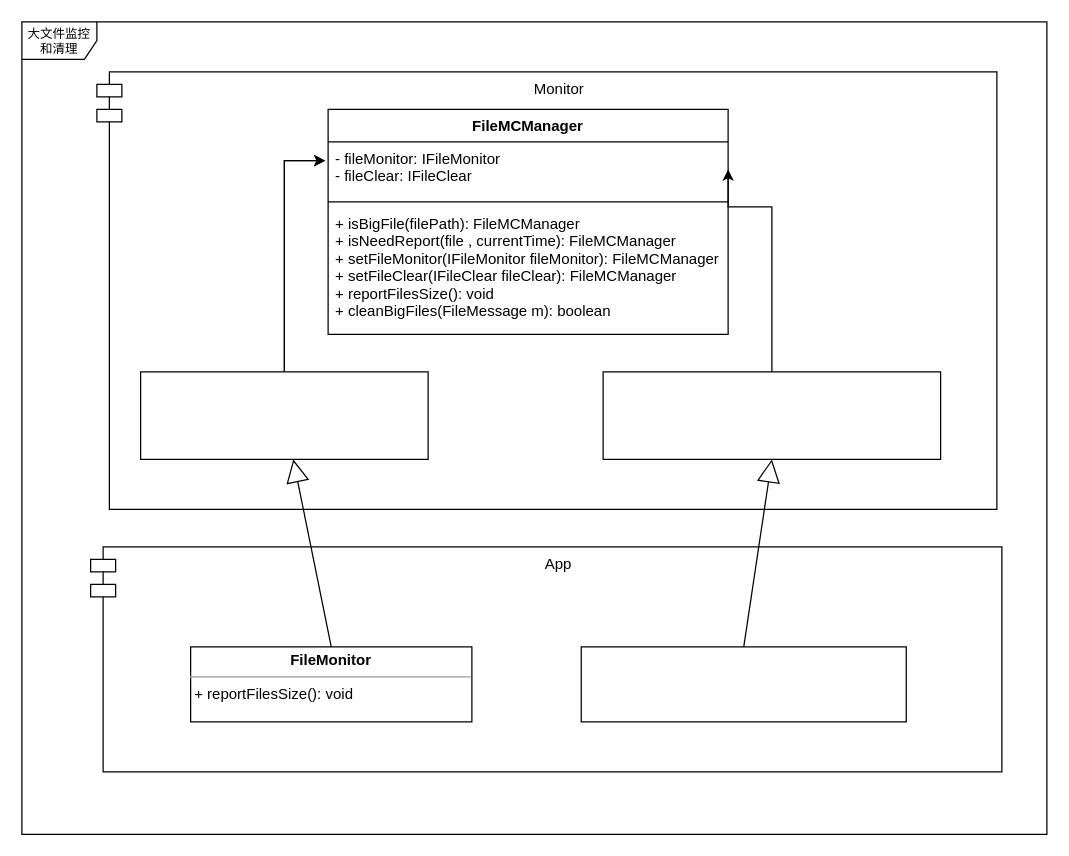
Image size: 1069x856. Some labels were removed from this diagram. The shapes that lost their labels are listed below. From the top down, each one's box as (x1, y1, x2, y2) in pixels, then its label:
(139, 371, 428, 459): <<Interface>> IFileMonitor + reportFilesSize(): void
(602, 371, 941, 459): <<Interface>> IFileClear + cleanBigFiles(FileMessage m): boolean
(580, 646, 906, 722): FileClear cleanBigFiles(FileMessage m): boolean
